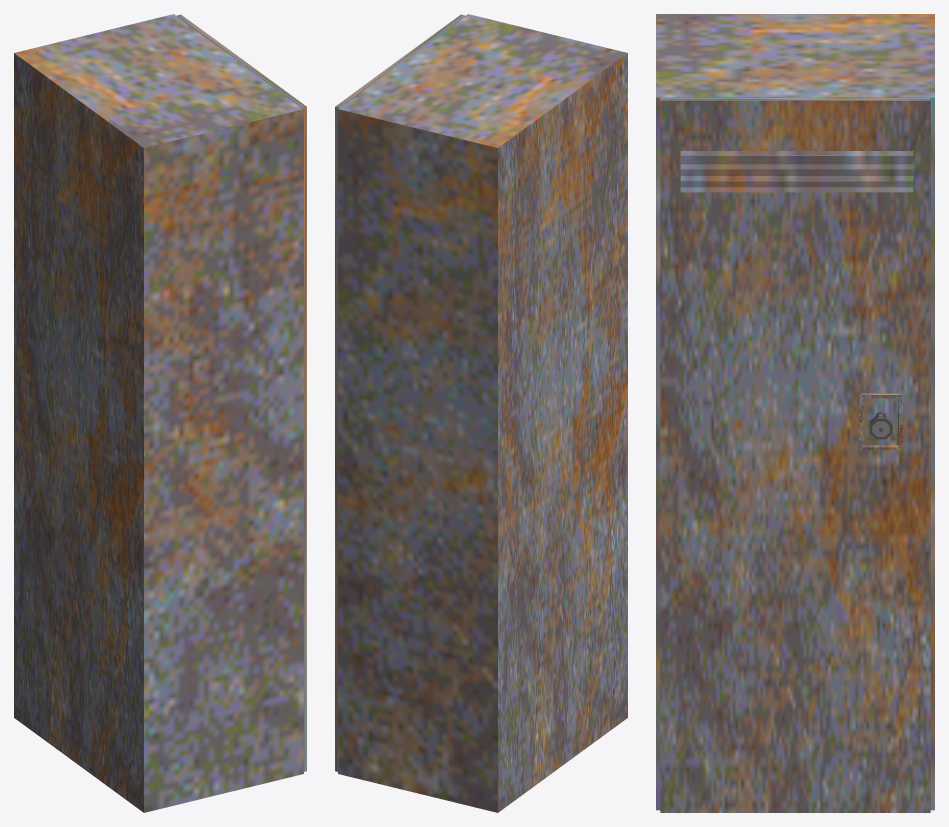
File: Locker_2.fbx
3 views of the same model, side by side, from view 1: azimuth 30°, elevation 25°; view 2: azimuth 150°, elevation 25°; view 3: azimuth 270°, elevation 25° (orthographic). The views are drawn at different scales.
Visible parts, largest first — view 1: Locker_Body, Locker_Door; view 2: Locker_Body, Locker_Door; view 3: Locker_Door, Locker_Body, Lock.
Part boxes in pixels (left/top/right/bottom): Locker_Body: left=14, top=14, right=303, bottom=812; Locker_Door: left=176, top=14, right=306, bottom=771; Locker_Body: left=338, top=14, right=627, bottom=812; Locker_Door: left=335, top=14, right=465, bottom=771; Locker_Door: left=660, top=98, right=930, bottom=812; Locker_Body: left=656, top=14, right=934, bottom=810; Lock: left=869, top=411, right=892, bottom=439.
Bounding box in the file's own units: 153 × 564 × 200.
